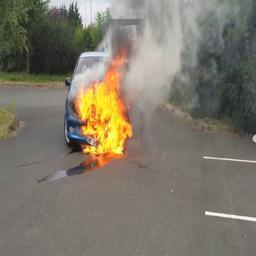fire: (74, 45, 134, 157)
